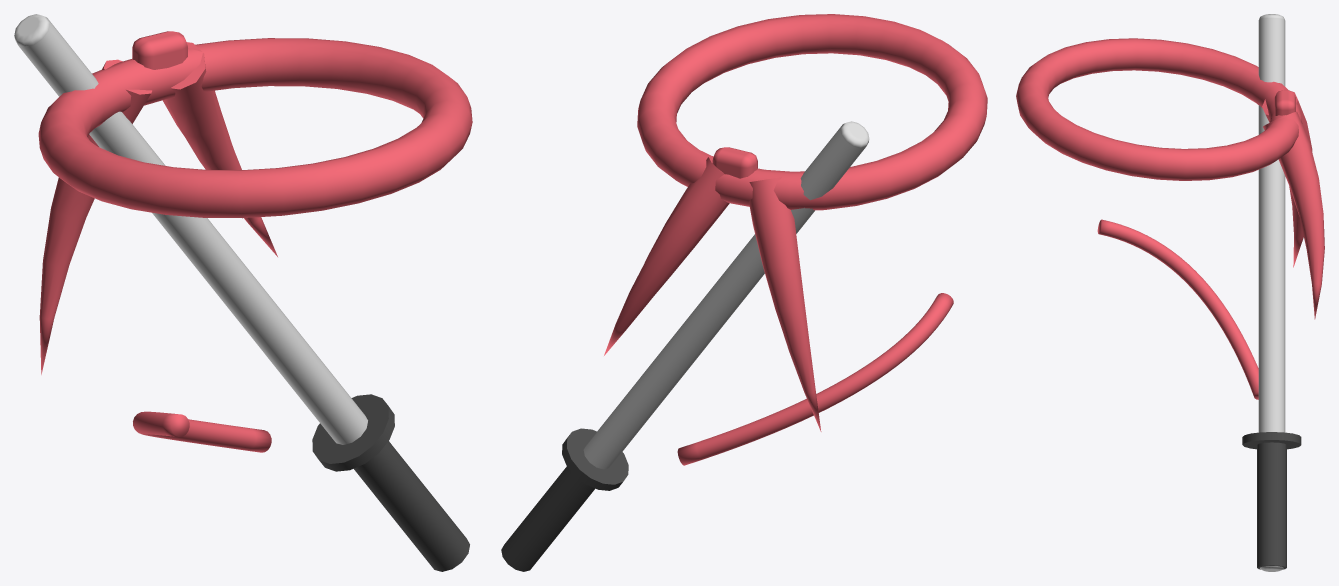
Rendered from Outfit_Ronin.glb.
The picture shows the model from 3 angles, left to right: view 1: azimuth 30°, elevation 25°; view 2: azimuth 150°, elevation 25°; view 3: azimuth 270°, elevation 25°; orthographic projection. The views are drawn at different scales.
Parts seen in each view (by area): view 1: Head, Body; view 2: Head, Body; view 3: Head, Body.
Boxes of the visible parts, bbox=[...] form: Head: bbox=[38, 31, 472, 374]; Body: bbox=[14, 14, 469, 571]; Head: bbox=[604, 14, 987, 431]; Body: bbox=[501, 121, 953, 571]; Head: bbox=[1016, 38, 1324, 319]; Body: bbox=[1097, 14, 1301, 571].
Bounding box in the file's own units: 0.6892 × 0.8823 × 0.5752.
